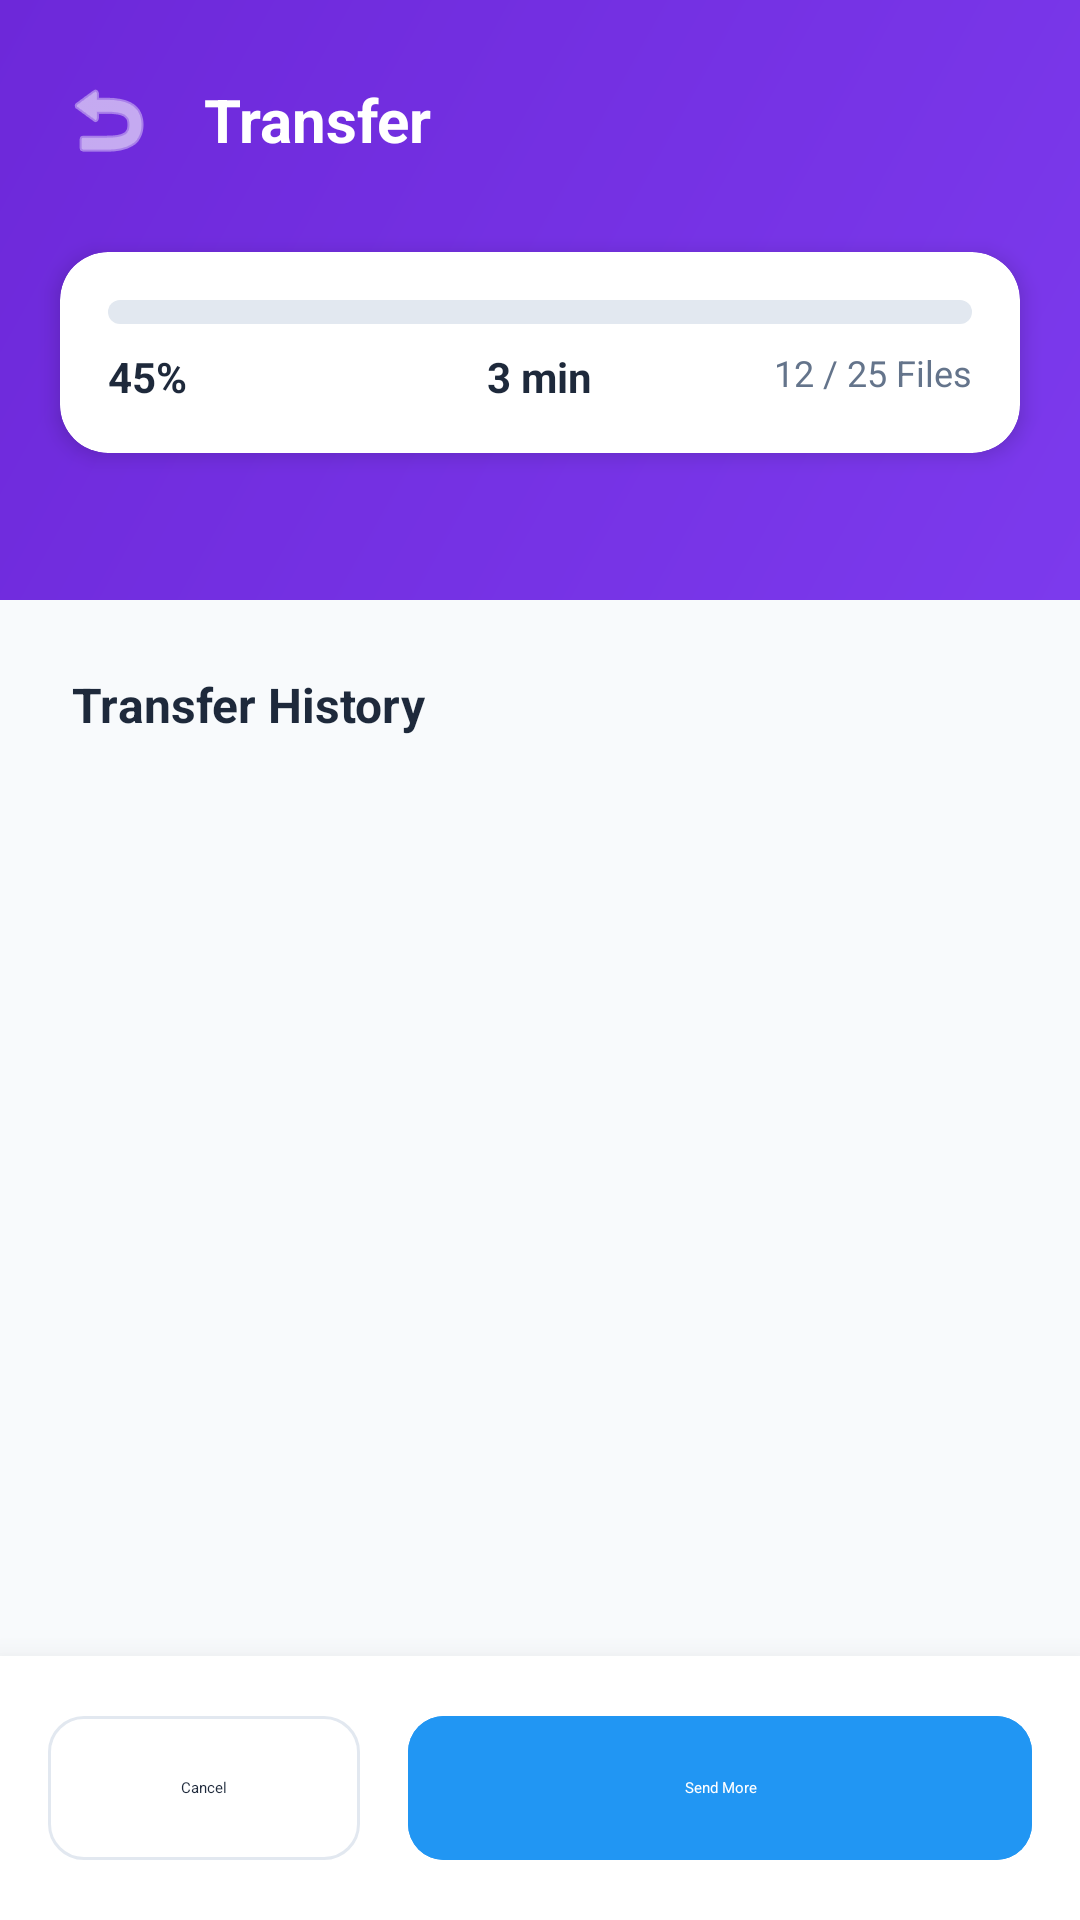

Locate icon controls on the screen. Image size 1080w x 1920h, boxes as [x1, y1, x2, y2].
revert: [75, 89, 144, 152]
